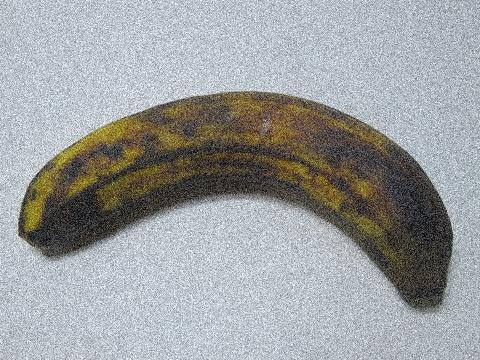overripe: (9, 77, 464, 322)
